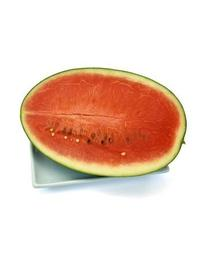watermelon: (19, 67, 188, 177)
